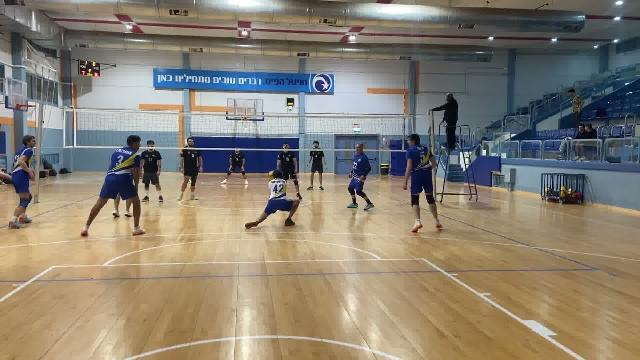ball: (268, 167, 276, 179)
